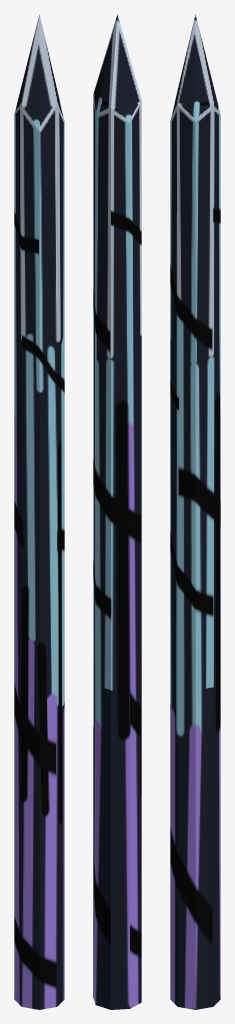
Rendered from pencil.glb.
3 renders of one model, left to right at view 1: azimuth 90°, elevation 25°; view 2: azimuth 210°, elevation 25°; view 3: azimuth 270°, elevation 25°, orthographic.
Visible parts, largest first — view 1: Circle; view 2: Circle; view 3: Circle.
Boxes of the visible parts, box(x1,y1,x2,y2) form: Circle: box(14, 14, 64, 1009); Circle: box(93, 14, 141, 1009); Circle: box(170, 14, 220, 1009).
Bounding box in the file's own units: 2 × 43.28 × 2.
Materials: 1 (1 with a texture image).
